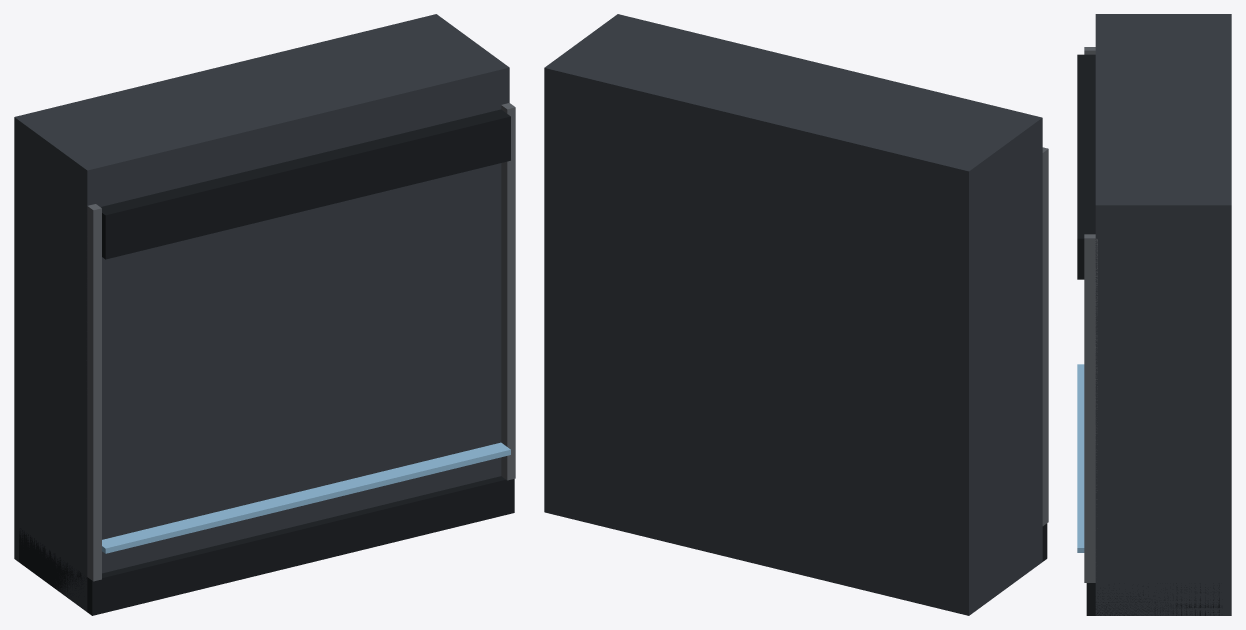
Rendered from imperial_wall.glb.
3 renders of one model, left to right at view 1: azimuth 30°, elevation 25°; view 2: azimuth 150°, elevation 25°; view 3: azimuth 270°, elevation 25°, orthographic. The views are drawn at different scales.
Parts seen in each view (by area): view 1: imperial_wall; view 2: imperial_wall; view 3: imperial_wall.
Part boxes in pixels (x1,y1,x2,y2): imperial_wall: (14,14,515,615); imperial_wall: (544,14,1048,615); imperial_wall: (1077,14,1231,615).
Bounding box in the file's own units: 1 × 1 × 0.34.
